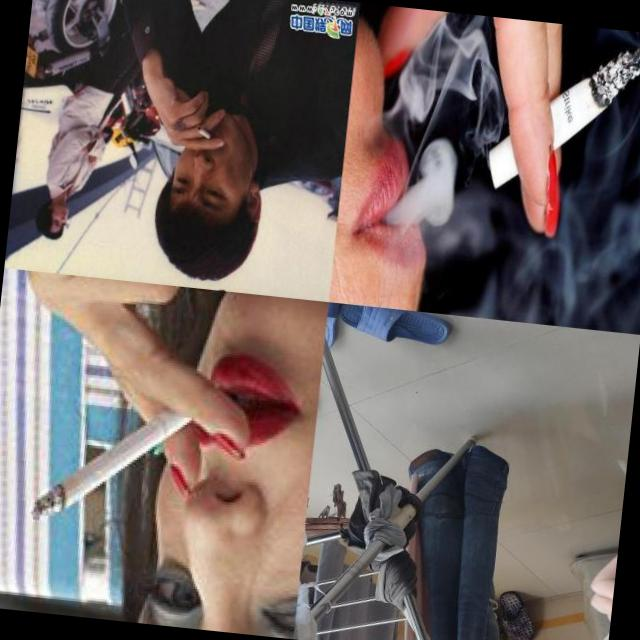smoke: (483, 33, 640, 203), (20, 399, 184, 543), (571, 599, 612, 640), (576, 618, 609, 640), (196, 126, 217, 143)
